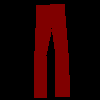abbigliamento_uomo: (33, 3, 70, 98)
